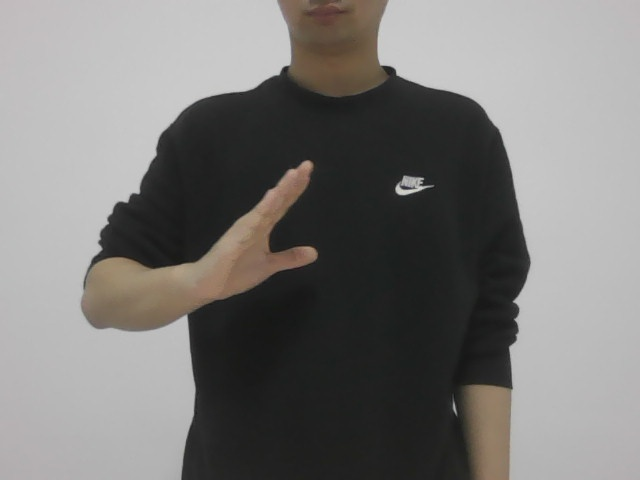morning: (202, 156, 333, 302)
